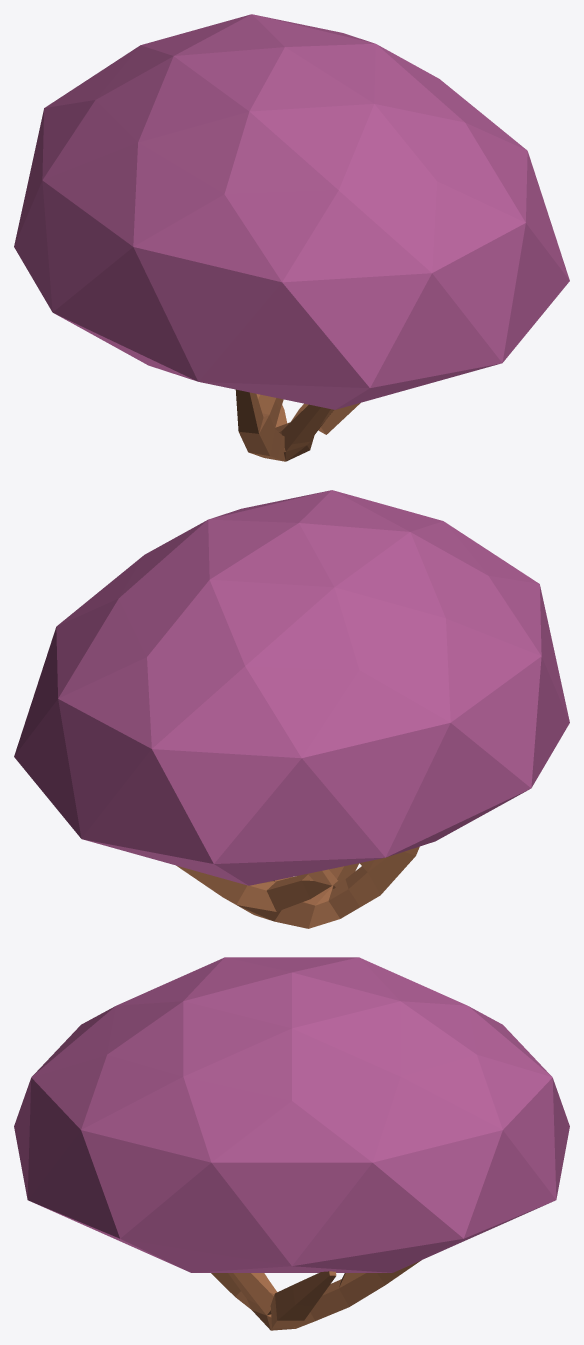
The model's file is Arbol Cereza Fase2.fbx.
3 renders of one model, top to bottom at view 1: azimuth 30°, elevation 25°; view 2: azimuth 150°, elevation 25°; view 3: azimuth 270°, elevation 25°, orthographic. The views are drawn at different scales.
Visible parts, largest first — view 1: Icosphere.001, Vert.002; view 2: Icosphere.001, Vert.002; view 3: Icosphere.001, Vert.002.
Part boxes in pixels (left/top/right/bottom): Icosphere.001: left=14, top=14, right=569, bottom=409; Vert.002: left=235, top=389, right=360, bottom=461; Icosphere.001: left=14, top=490, right=569, bottom=885; Vert.002: left=176, top=846, right=419, bottom=928; Icosphere.001: left=14, top=957, right=569, bottom=1272; Vert.002: left=211, top=1260, right=421, bottom=1330.
Size of the model in its own units: 170 by 143 by 204.
